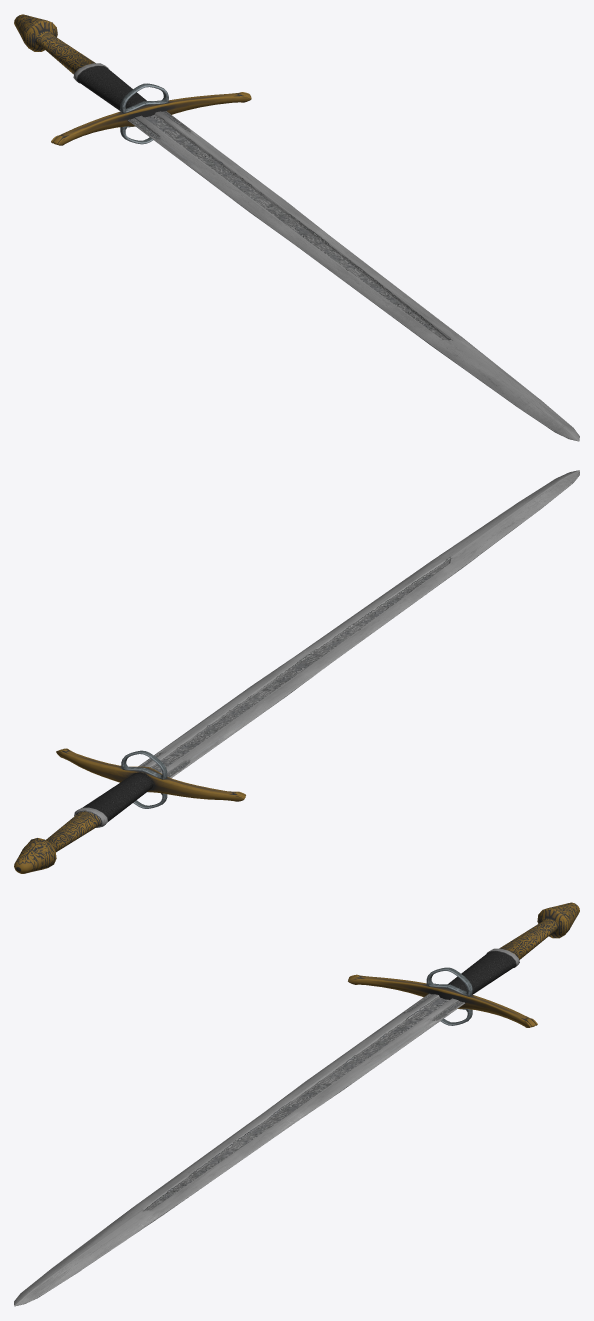
The model's file is paladin_longsword_free_download.glb.
The picture shows the model from 3 angles, top to bottom: view 1: azimuth 30°, elevation 25°; view 2: azimuth 150°, elevation 25°; view 3: azimuth 330°, elevation 25°; orthographic projection. The views are drawn at different scales.
Visible parts, largest first — view 1: Cube; view 2: Cube; view 3: Cube.
Boxes of the visible parts, x1,y1,x2,y2 form: Cube: (14,14,579,441); Cube: (14,470,579,873); Cube: (14,902,579,1306).
Size of the model in its own units: 0.3994 by 0.1136 by 2.
4 materials, 4 textured.
